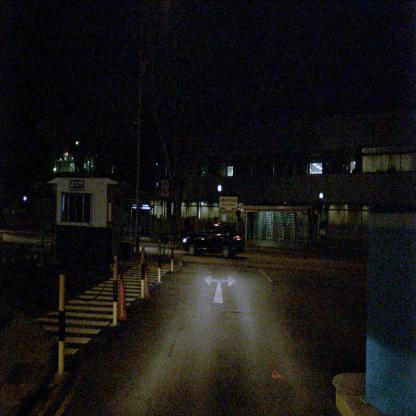cone: (116, 267, 128, 321), (140, 257, 152, 297)
